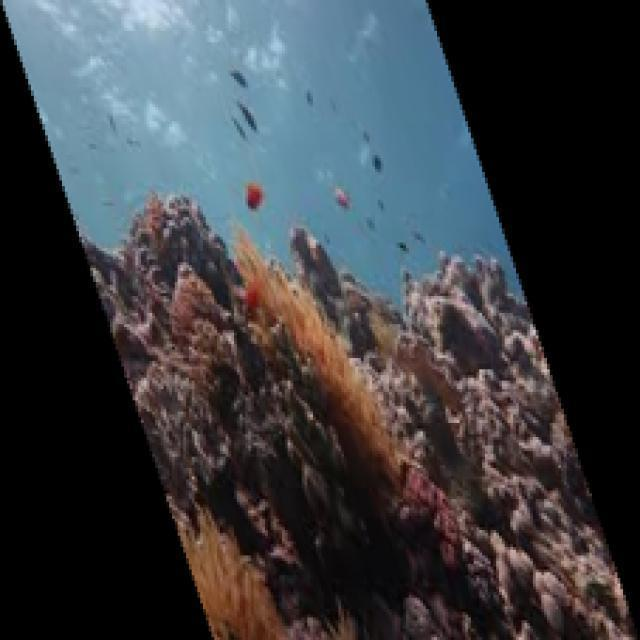Dead Coral: (390, 261, 637, 640), (108, 162, 338, 491)
